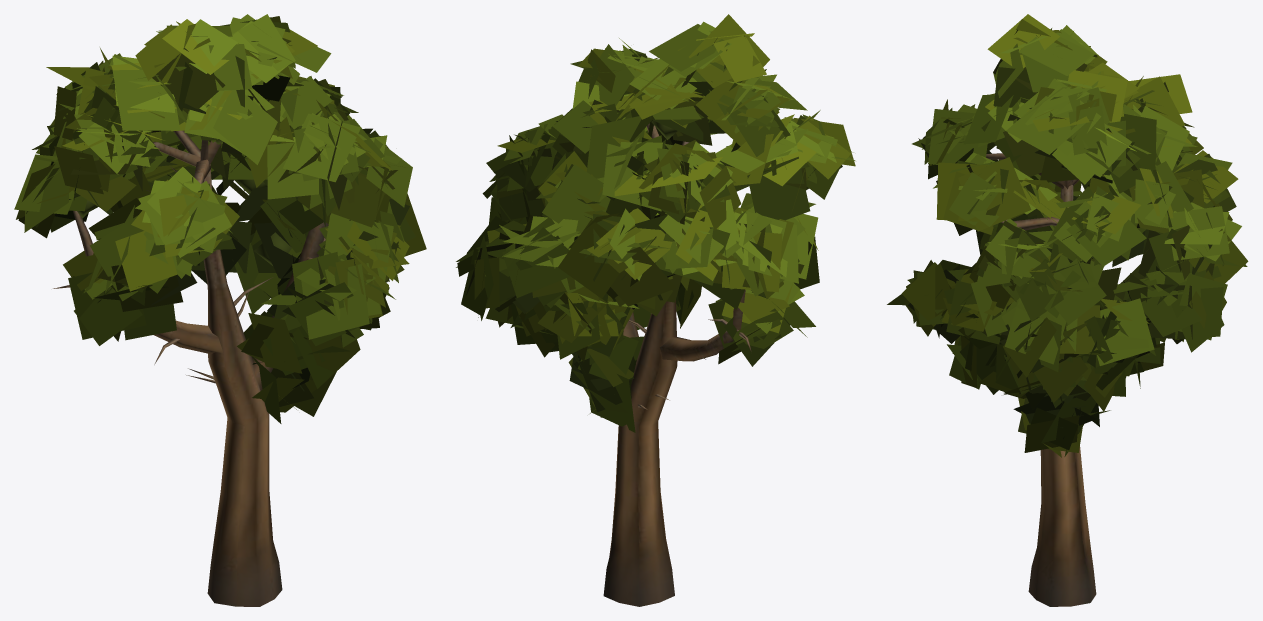
File: tree-08-brown.glb
The picture shows the model from 3 angles, left to right: view 1: azimuth 30°, elevation 25°; view 2: azimuth 150°, elevation 25°; view 3: azimuth 270°, elevation 25°; orthographic projection. The views are drawn at different scales.
Parts seen in each view (by area): view 1: tree-08-brown; view 2: tree-08-brown; view 3: tree-08-brown.
Boxes of the visible parts, x1,y1,x2,y2 form: tree-08-brown: (14, 14, 426, 606); tree-08-brown: (456, 14, 855, 606); tree-08-brown: (887, 14, 1248, 606).
Size of the model in its own units: 3.87 by 6.26 by 3.78.
Materials: 3 (1 with a texture image).
